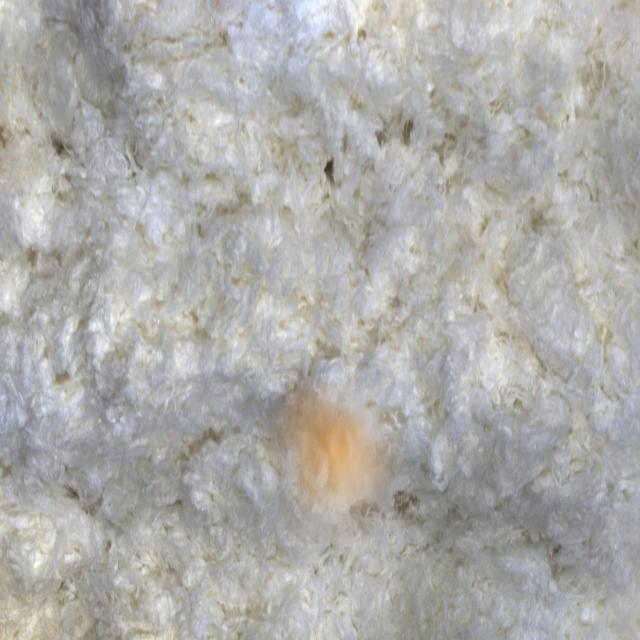dust: (259, 378, 405, 566)
